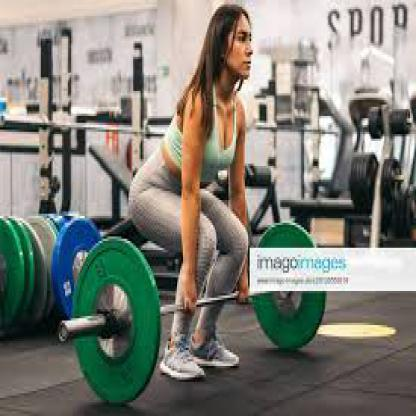Barbell: (68, 234, 164, 410)
